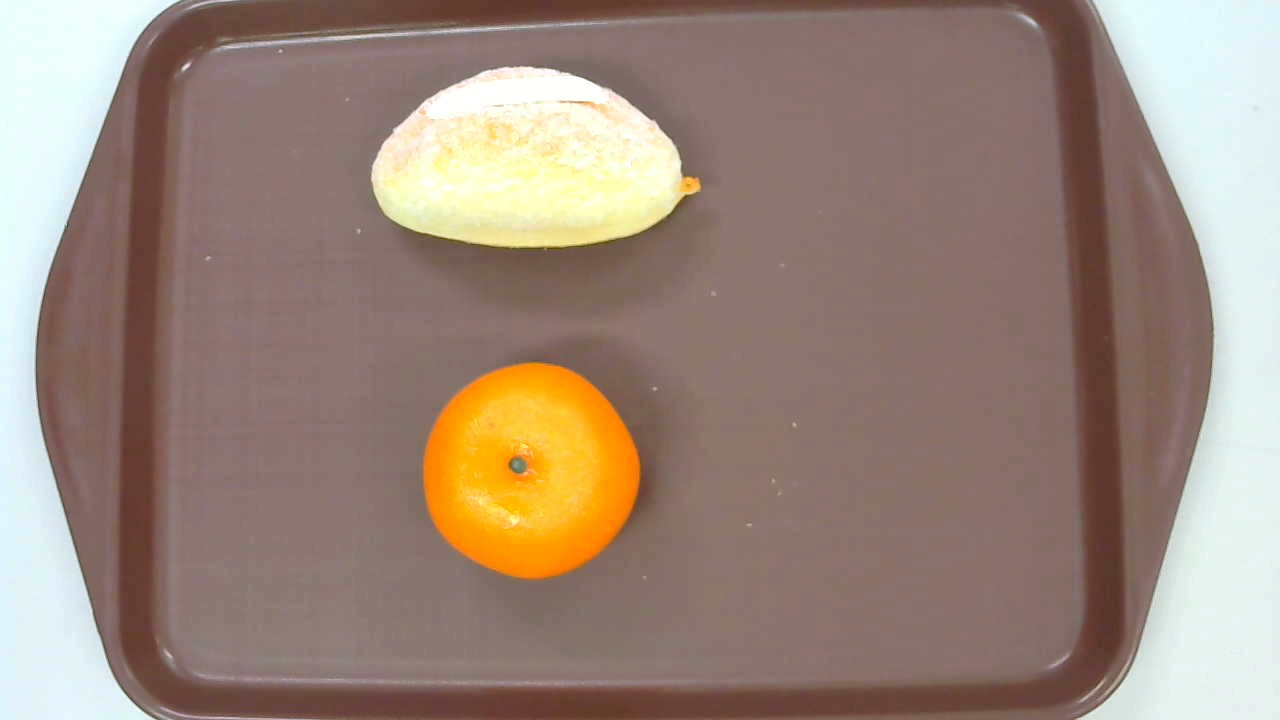coconut: (370, 66, 702, 249)
orange: (422, 362, 642, 579)
